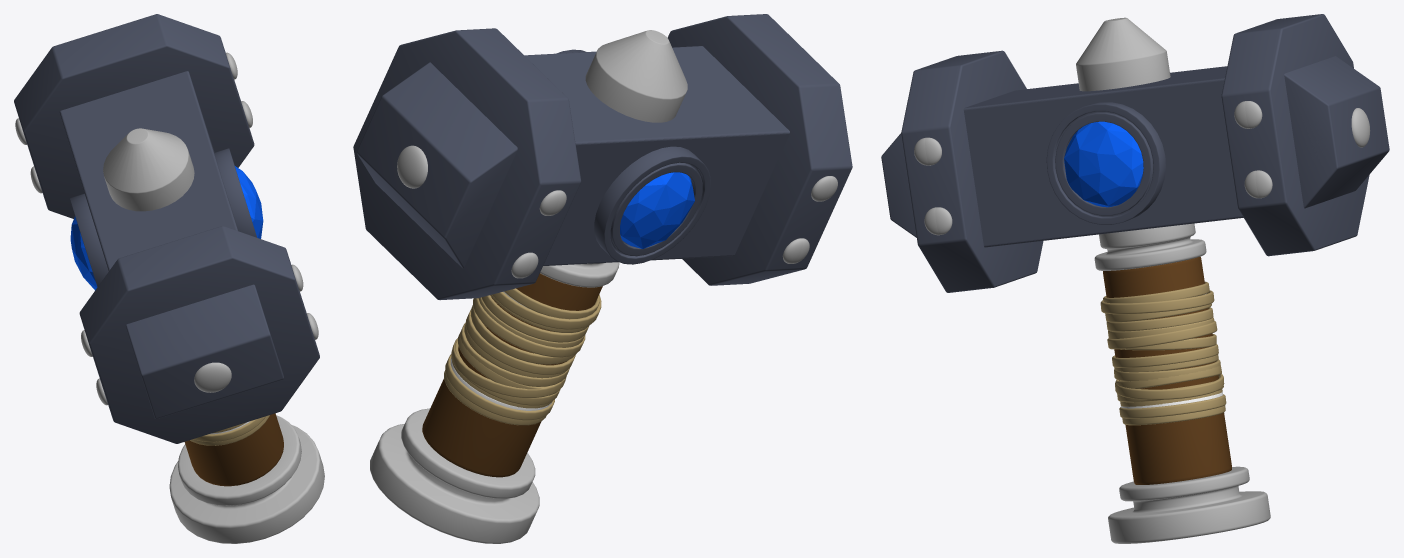
Rendered from mjolnir.glb.
The picture shows the model from 3 angles, left to right: view 1: azimuth 30°, elevation 25°; view 2: azimuth 150°, elevation 25°; view 3: azimuth 270°, elevation 25°; orthographic projection. The views are drawn at different scales.
Parts seen in each view (by area): view 1: Cube.001, Cube, Cube.002, Cylinder.002, Cylinder.001, Cylinder.003, Cylinder, Sphere.002, Sphere, Cylinder.021, Sphere.001; view 2: Cube.001, Cube, Cube.002, Cylinder.002, Cylinder.021, Cylinder.003, Cylinder.001, Cylinder, Sphere.002, Sphere, Sphere.001; view 3: Cube.001, Cube, Cylinder.021, Cube.002, Cylinder.002, Cylinder.003, Cylinder, Sphere.002, Cylinder.001, Sphere.
Boxes of the visible parts, <box> form: Cube.001: <box>14,14,319,443</box>; Cube: <box>59,71,238,271</box>; Cube.002: <box>126,284,283,418</box>; Cylinder.002: <box>169,415,324,543</box>; Cylinder.001: <box>103,128,194,211</box>; Cylinder.003: <box>184,413,283,486</box>; Cylinder: <box>70,148,256,286</box>; Sphere.002: <box>70,166,263,290</box>; Sphere: <box>15,52,318,405</box>; Cylinder.021: <box>190,415,269,445</box>; Sphere.001: <box>194,362,231,392</box>; Cube.001: <box>353,14,852,300</box>; Cube: <box>524,46,789,265</box>; Cube.002: <box>357,62,517,268</box>; Cylinder.002: <box>370,262,619,543</box>; Cylinder.021: <box>444,288,601,425</box>; Cylinder.003: <box>422,273,602,477</box>; Cylinder.001: <box>585,30,687,122</box>; Cylinder: <box>556,49,710,264</box>; Sphere.002: <box>620,172,694,248</box>; Sphere: <box>511,176,837,278</box>; Sphere.001: <box>397,145,427,188</box>; Cube.001: <box>901,14,1369,292</box>; Cube: <box>963,66,1243,247</box>; Cylinder.021: <box>1100,281,1226,425</box>; Cube.002: <box>881,56,1389,237</box>; Cylinder.002: <box>1094,223,1270,543</box>; Cylinder.003: <box>1103,256,1231,484</box>; Cylinder: <box>1046,102,1165,224</box>; Sphere.002: <box>1064,121,1143,207</box>; Cylinder.001: <box>1076,17,1170,91</box>; Sphere: <box>914,101,1272,235</box>.
Bounding box in the file's own units: 3.88 × 5.56 × 5.09.
